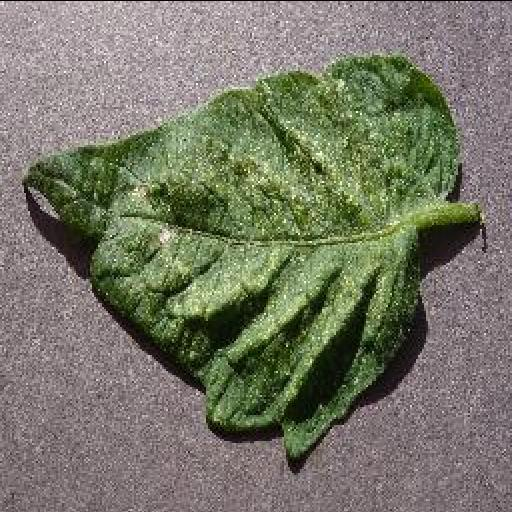disease_tomato: (26, 54, 460, 460)
